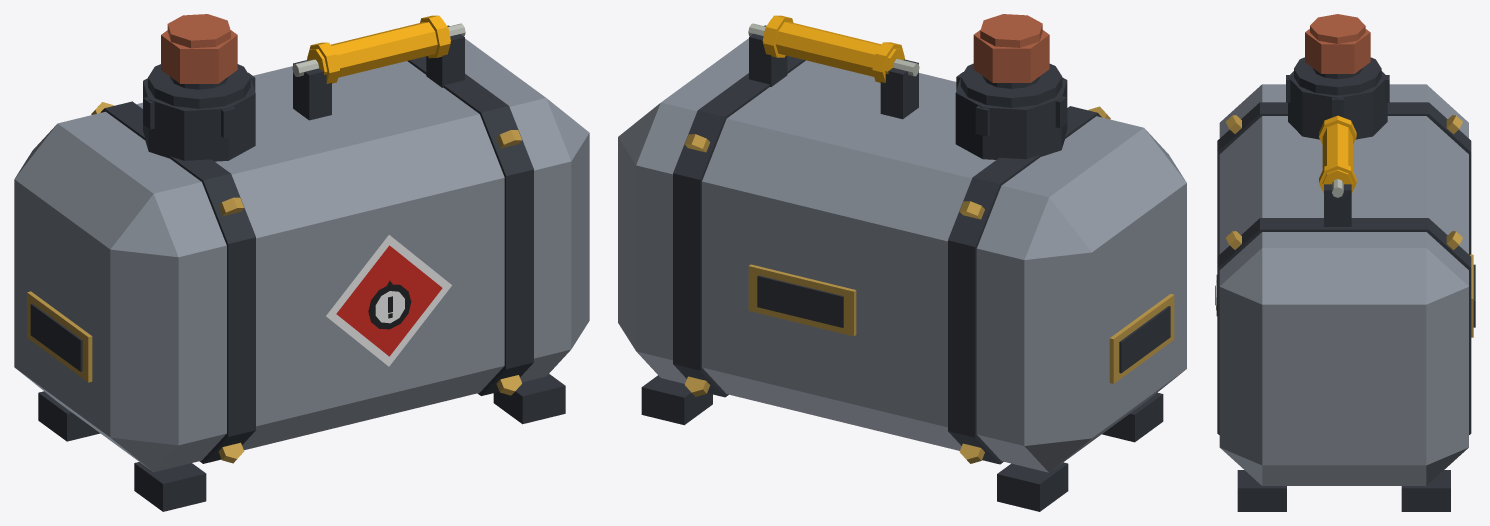
The model's file is mills q3 fuel tank.fbx.
3 views of the same model, side by side, from view 1: azimuth 30°, elevation 25°; view 2: azimuth 150°, elevation 25°; view 3: azimuth 270°, elevation 25° (orthographic). The views are drawn at different scales.
Visible parts, largest first — view 1: Tank_Strap_1; view 2: Tank_Strap_1; view 3: Tank_Strap_1.
Part boxes in pixels (x1=…): Tank_Strap_1: x1=14, y1=14, x2=589, y2=511; Tank_Strap_1: x1=618, y1=14, x2=1186, y2=511; Tank_Strap_1: x1=1215, y1=14, x2=1475, y2=511.
Size of the model in its own units: 73 by 60.1 by 39.65.
